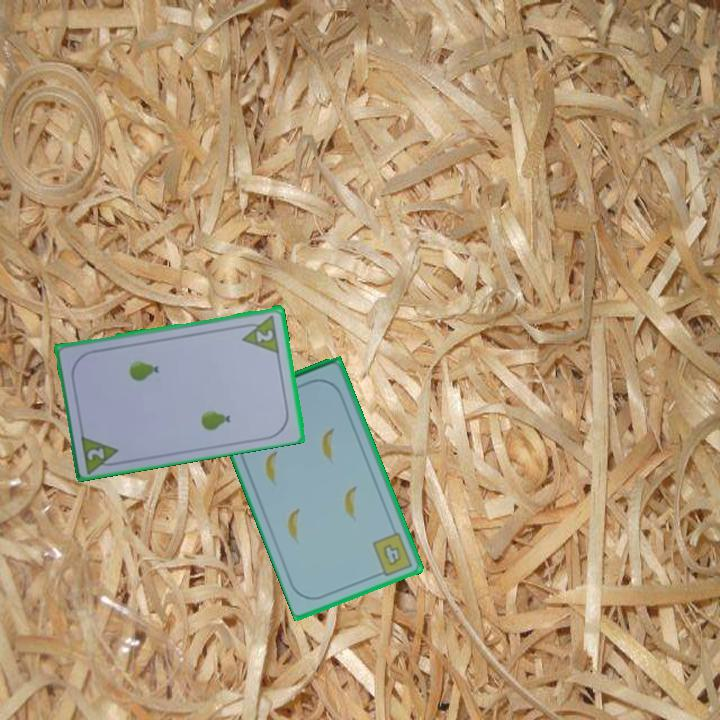2p: (77, 431, 124, 475), (237, 311, 283, 355)
4b: (369, 529, 415, 579)
